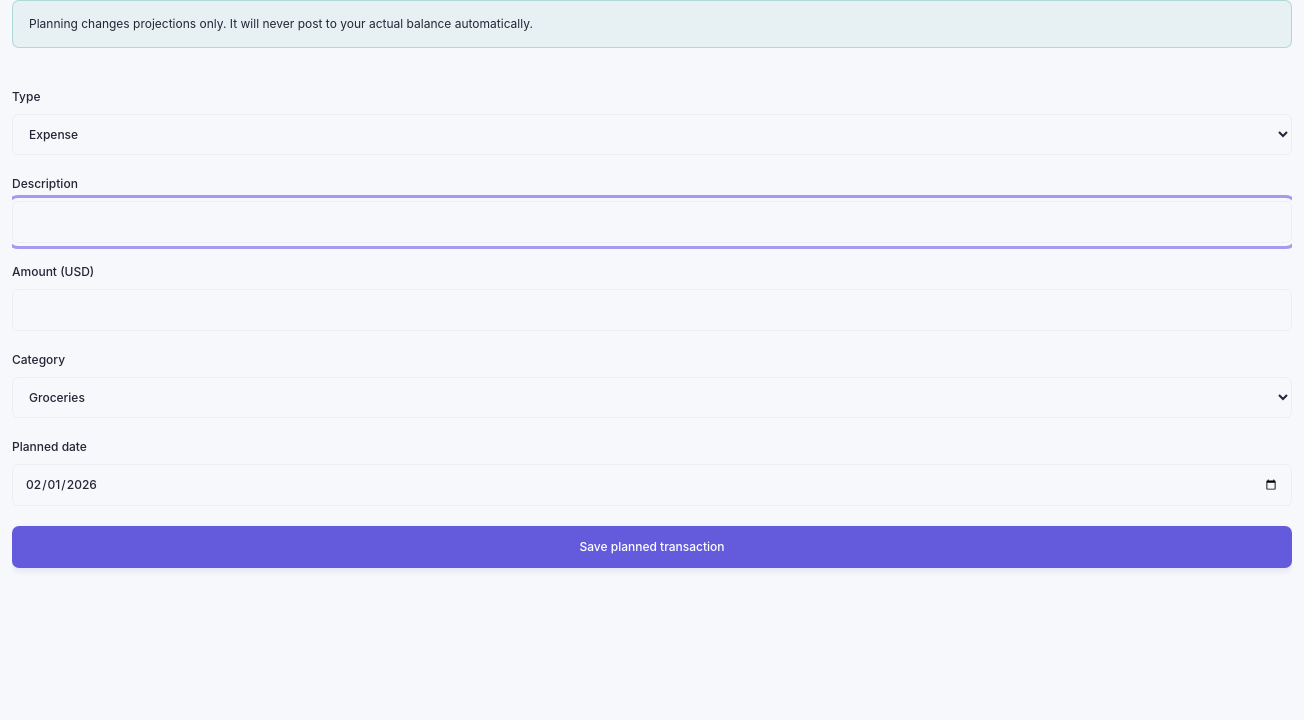
planned transaction forms › changes category options when changing direction
Select "Income" in the dropdown labelled "Type" at (652, 134), box [12,114,1292,155]
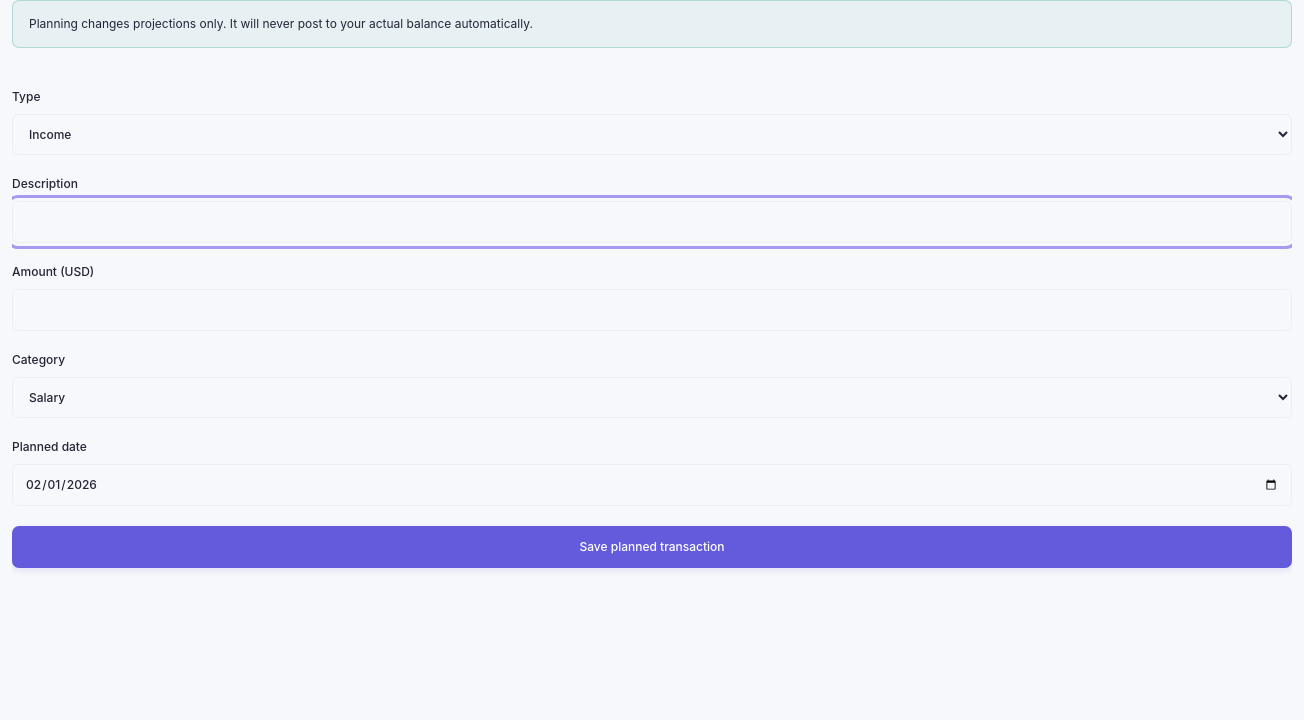
Expected: the option "Groceries" is not shown
Expected: the dropdown labelled "Category" shows "Salary", [12,377,1292,418]
